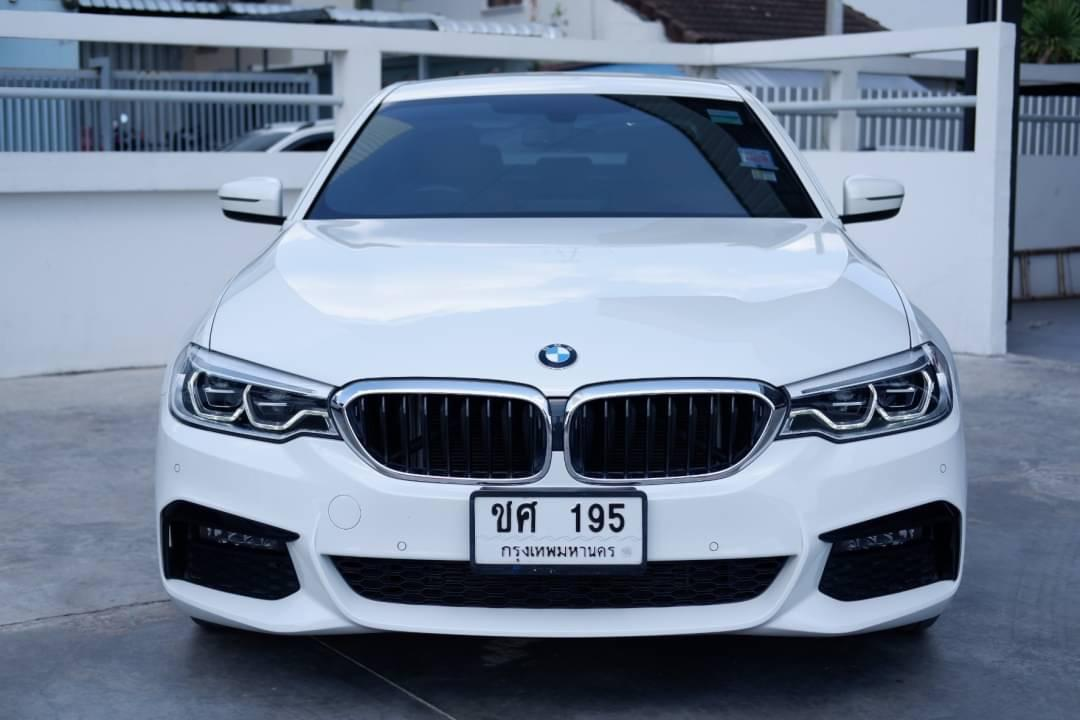license-plate: (468, 486, 648, 574)
